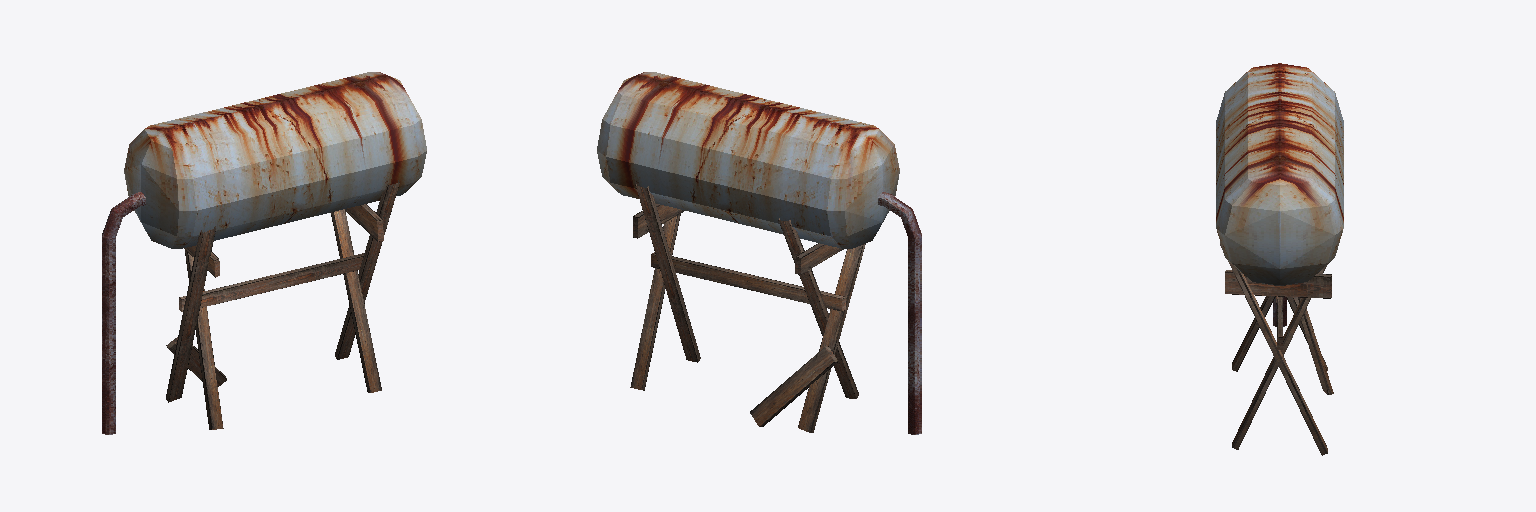
3 renders of one model, left to right at view 1: azimuth 30°, elevation 25°; view 2: azimuth 150°, elevation 25°; view 3: azimuth 270°, elevation 25°, orthographic.
Parts seen in each view (by area): view 1: Tank; view 2: Tank; view 3: Tank.
Part boxes in pixels (bbox=[...]): Tank: bbox=[102, 72, 426, 434]; Tank: bbox=[597, 72, 921, 434]; Tank: bbox=[1216, 63, 1343, 455].
Bounding box in the file's own units: 5.58 × 5.14 × 2.
Materials: 1 (1 with a texture image).